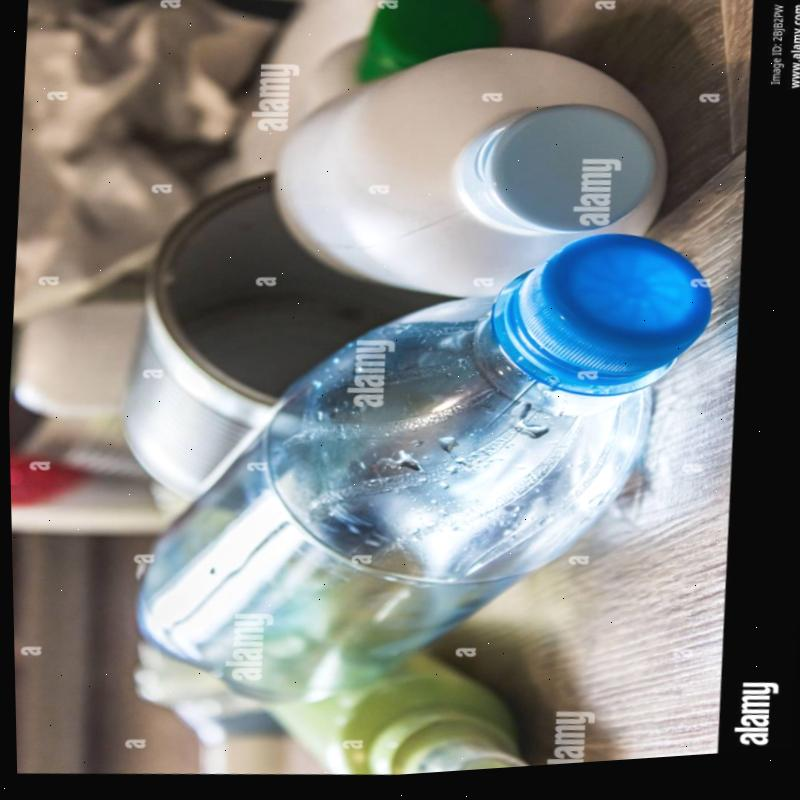botella: (119, 202, 714, 748)
